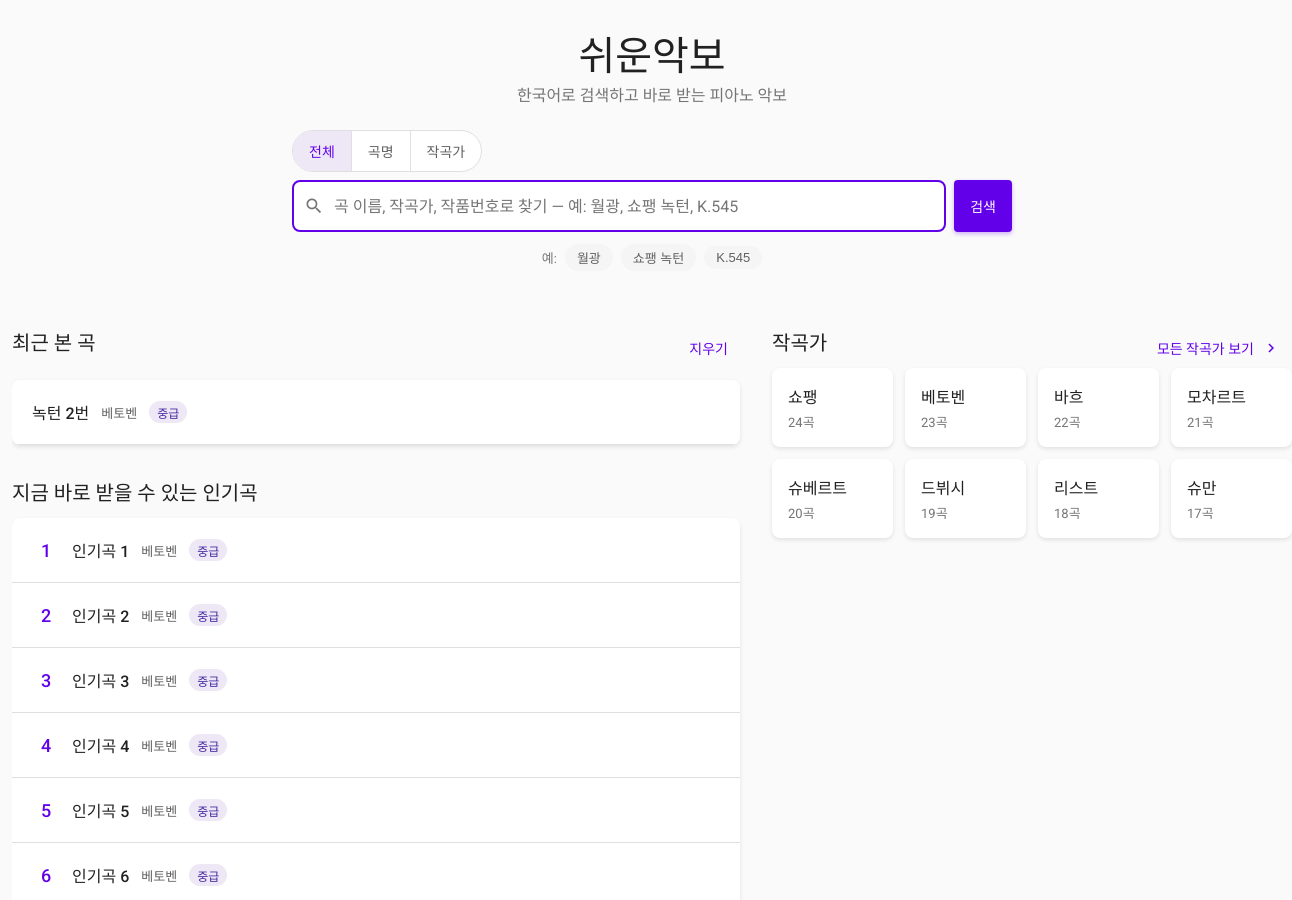
저장된 곡이 있을 때 (8-E 1·7) › '지우기' 를 누르면 확인 창 없이 즉시 영역이 사라지고 저장도 비워진다 (8-E 6)
The width and height of the screenshot is (1292, 900).
Click the button with aria-label "최근 본 곡 지우기": (709, 348) [677,330,740,366]
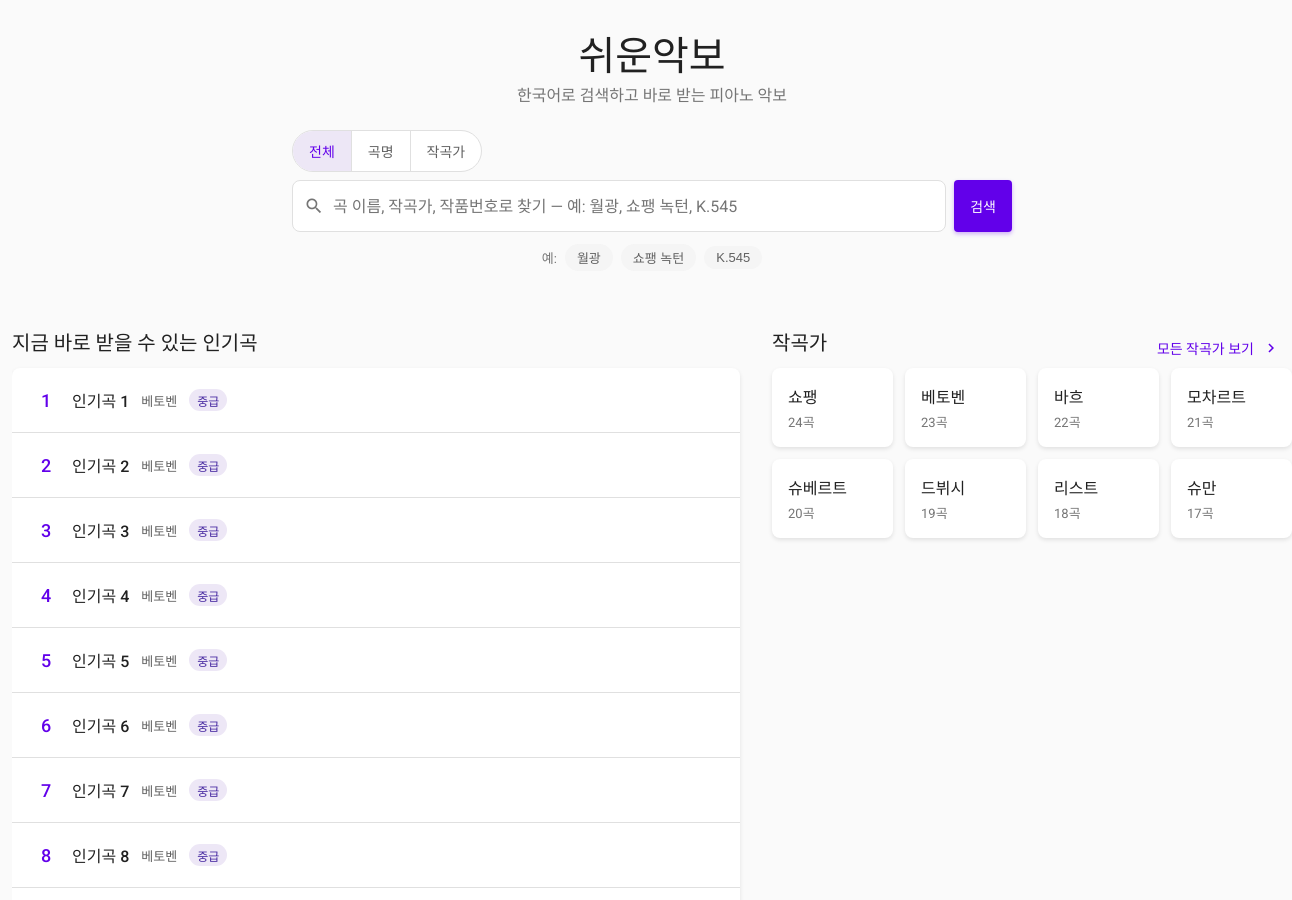
Check: the heading "최근 본 곡" is gone
